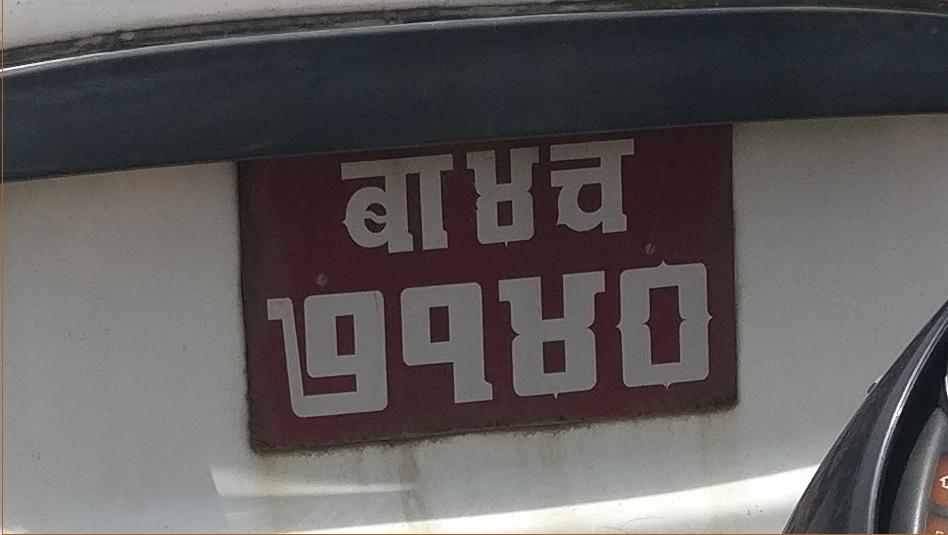0: (612, 252, 717, 395)
1: (394, 276, 497, 418)
4: (495, 263, 613, 405), (459, 140, 544, 248)
7: (257, 283, 396, 423)
ba: (332, 148, 460, 260)
cha: (545, 133, 640, 240)
